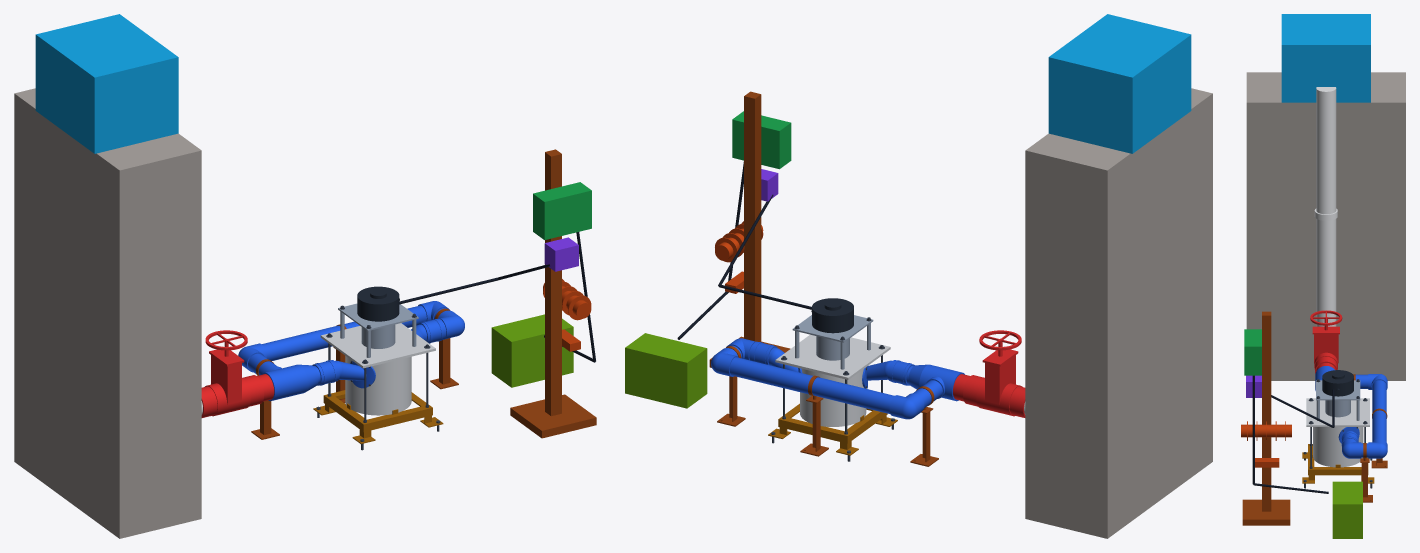
The picture shows the model from 3 angles, left to right: view 1: azimuth 30°, elevation 25°; view 2: azimuth 150°, elevation 25°; view 3: azimuth 270°, elevation 25°; orthographic projection. The views are drawn at different scales.
Parts seen in each view (by area): view 1: Weir or rock step (site, not in kit), Forebay and intake screen, Nozzle manifold, two nozzles, Equipment post, Housing and lid, Battery, 12 V (not in kit cost), Inlet gate valve, MPPT, dump-load and clamp controller, Turbine frame, Sealed bearings, housing, mount, guard, Pipe stands, Generator, low-speed BLDC (+4 smaller); view 2: Weir or rock step (site, not in kit), Forebay and intake screen, Nozzle manifold, two nozzles, Battery, 12 V (not in kit cost), Equipment post, Housing and lid, Inlet gate valve, Pipe stands, MPPT, dump-load and clamp controller, Turbine frame, Sealed bearings, housing, mount, guard, Generator, low-speed BLDC (+2 smaller); view 3: Weir or rock step (site, not in kit), Forebay and intake screen, Penstock, 125 mm PVC (site-dependent), Equipment post, Housing and lid, Nozzle manifold, two nozzles, Battery, 12 V (not in kit cost), Inlet gate valve, Sealed bearings, housing, mount, guard, Dump-load and clamp resistors, MPPT, dump-load and clamp controller, Wiring, fuse and isolator (+5 smaller).
Boxes of the visible parts, <box> form: Weir or rock step (site, not in kit): <box>14,88,201,538</box>; Forebay and intake screen: <box>35,14,178,153</box>; Nozzle manifold, two nozzles: <box>238,301,464,401</box>; Equipment post: <box>510,149,596,438</box>; Housing and lid: <box>320,323,435,415</box>; Battery, 12 V (not in kit cost): <box>491,314,573,387</box>; Inlet gate valve: <box>201,330,274,417</box>; MPPT, dump-load and clamp controller: <box>533,182,591,239</box>; Turbine frame: <box>313,390,443,443</box>; Sealed bearings, housing, mount, guard: <box>338,303,418,357</box>; Pipe stands: <box>251,308,458,439</box>; Generator, low-speed BLDC: <box>357,286,399,321</box>; Weir or rock step (site, not in kit): <box>1025,88,1212,538</box>; Forebay and intake screen: <box>1048,14,1191,153</box>; Nozzle manifold, two nozzles: <box>711,338,964,419</box>; Battery, 12 V (not in kit cost): <box>625,333,707,408</box>; Equipment post: <box>709,91,790,367</box>; Housing and lid: <box>775,334,890,426</box>; Inlet gate valve: <box>953,330,1025,417</box>; Pipe stands: <box>717,346,938,466</box>; MPPT, dump-load and clamp controller: <box>732,111,791,169</box>; Turbine frame: <box>768,403,897,455</box>; Sealed bearings, housing, mount, guard: <box>792,315,873,369</box>; Generator, low-speed BLDC: <box>811,298,853,333</box>; Weir or rock step (site, not in kit): <box>1246,72,1405,380</box>; Forebay and intake screen: <box>1281,14,1370,102</box>; Penstock, 125 mm PVC (site-dependent): <box>1314,87,1337,326</box>; Equipment post: <box>1242,311,1290,525</box>; Housing and lid: <box>1306,398,1369,467</box>; Nozzle manifold, two nozzles: <box>1315,366,1387,458</box>; Battery, 12 V (not in kit cost): <box>1332,481,1362,538</box>; Inlet gate valve: <box>1310,310,1342,373</box>; Sealed bearings, housing, mount, guard: <box>1316,380,1360,420</box>; Dump-load and clamp resistors: <box>1241,421,1291,467</box>; MPPT, dump-load and clamp controller: <box>1244,329,1261,375</box>; Wiring, fuse and isolator: <box>1252,375,1334,493</box>.
Bounding box in the file's own units: 2.81 × 2.37 × 1.04.
